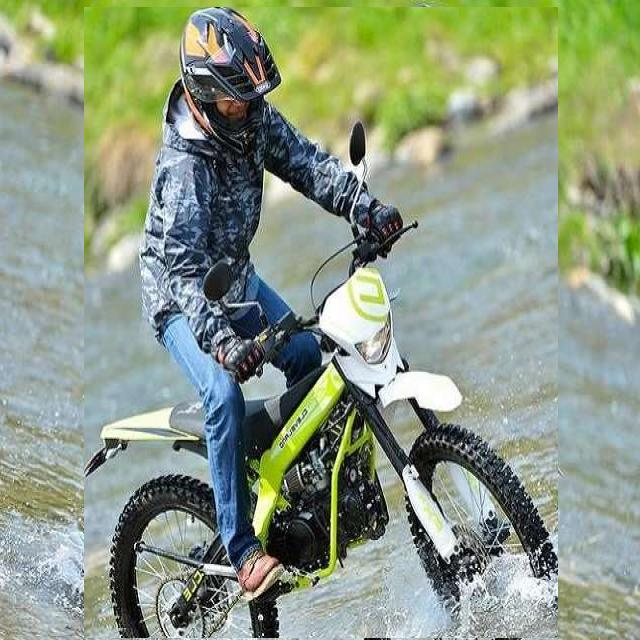motorcycle: (85, 7, 558, 638)
